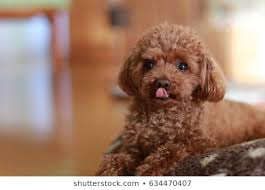Bulldog: (101, 22, 265, 170)
